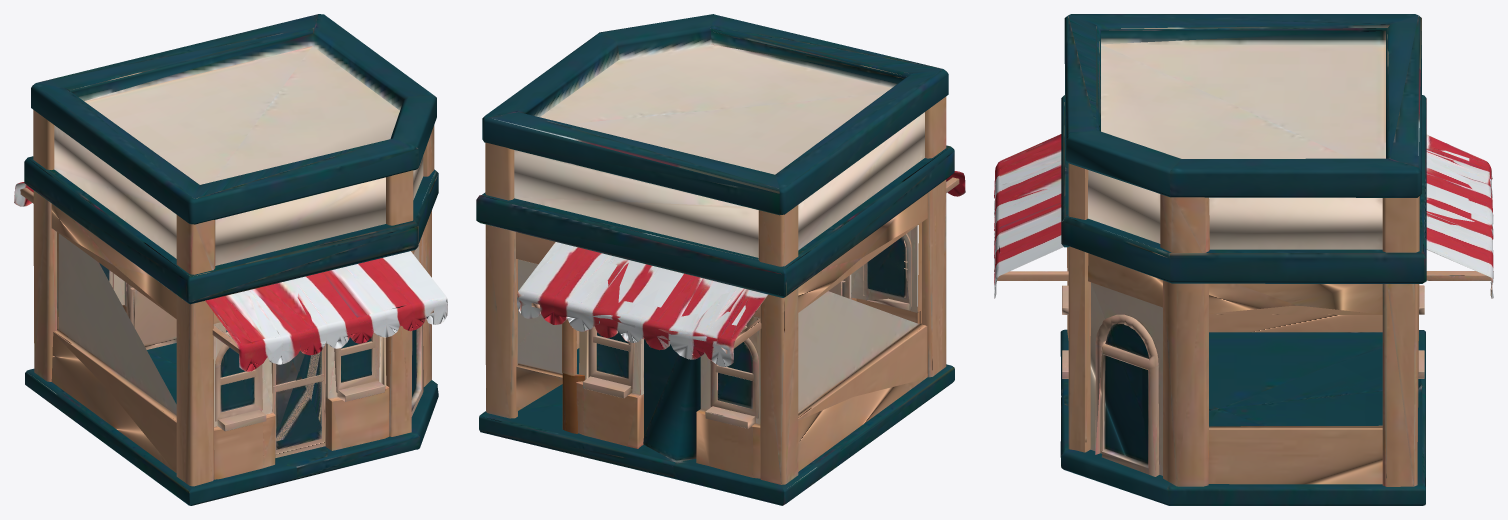
Rendered from shop.glb.
The picture shows the model from 3 angles, left to right: view 1: azimuth 30°, elevation 25°; view 2: azimuth 150°, elevation 25°; view 3: azimuth 270°, elevation 25°; orthographic projection. The views are drawn at different scales.
Visible parts, largest first — view 1: geometry_0; view 2: geometry_0; view 3: geometry_0.
Part boxes in pixels (x1,y1,x2,y2): geometry_0: [14, 14, 447, 505]; geometry_0: [476, 14, 965, 505]; geometry_0: [994, 14, 1493, 505].
Size of the model in its own units: 0.726 by 0.7037 by 0.9492.
Materials: 1 (1 with a texture image).
